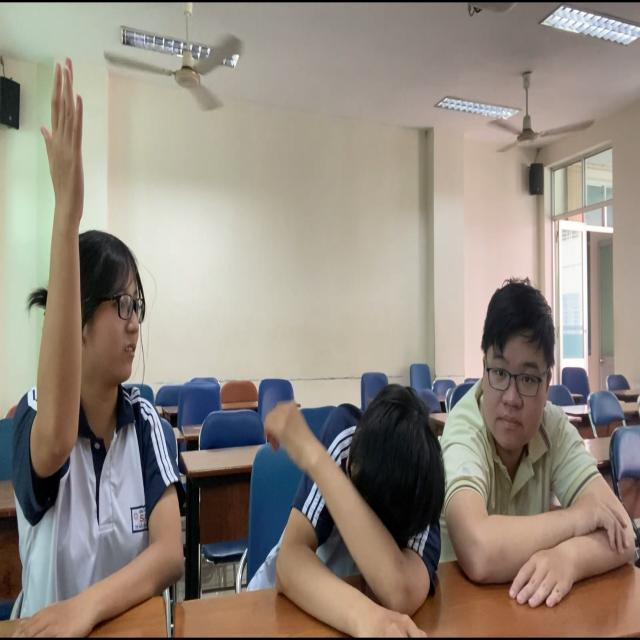raise_hand: (1, 45, 219, 640)
sleep: (245, 351, 454, 640)
